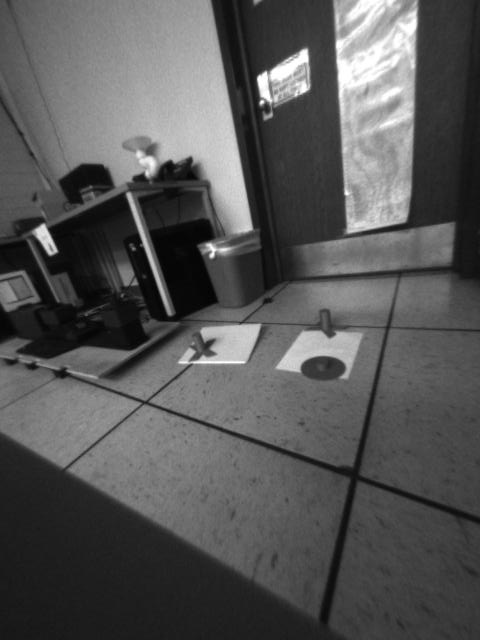X: (304, 309, 350, 336), (187, 331, 218, 361)
